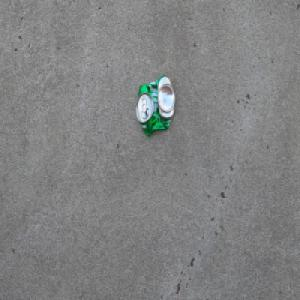SodaCan: (135, 74, 175, 137)
